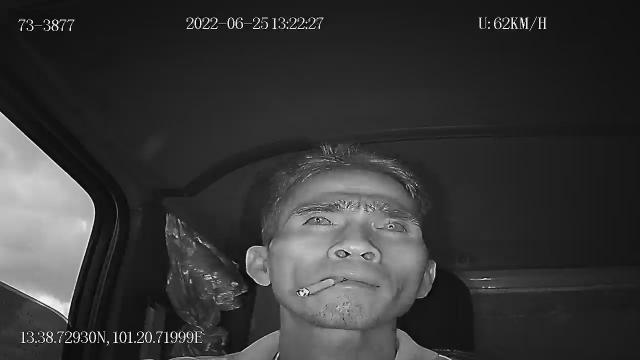SafeDriving: (296, 207, 342, 232), (372, 214, 414, 238)
Smoking: (296, 275, 346, 299)
